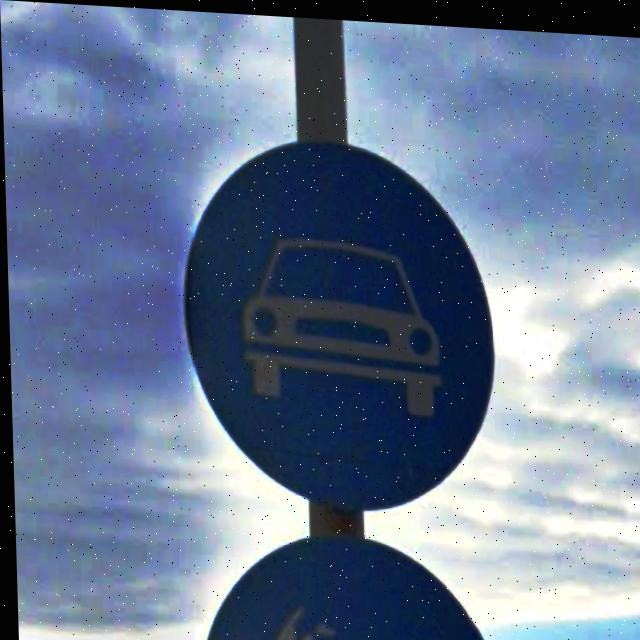car: (176, 126, 497, 514)
